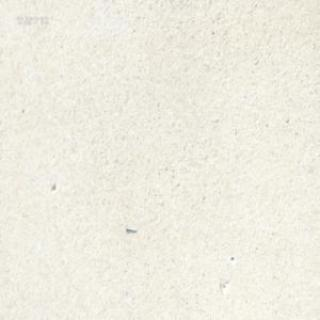Nailtrack_idkeyframe: (127, 225, 133, 235)
